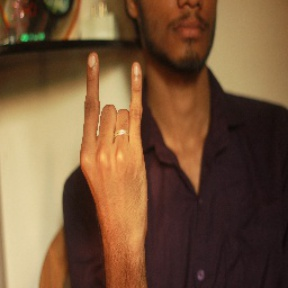V: (78, 50, 149, 216)
